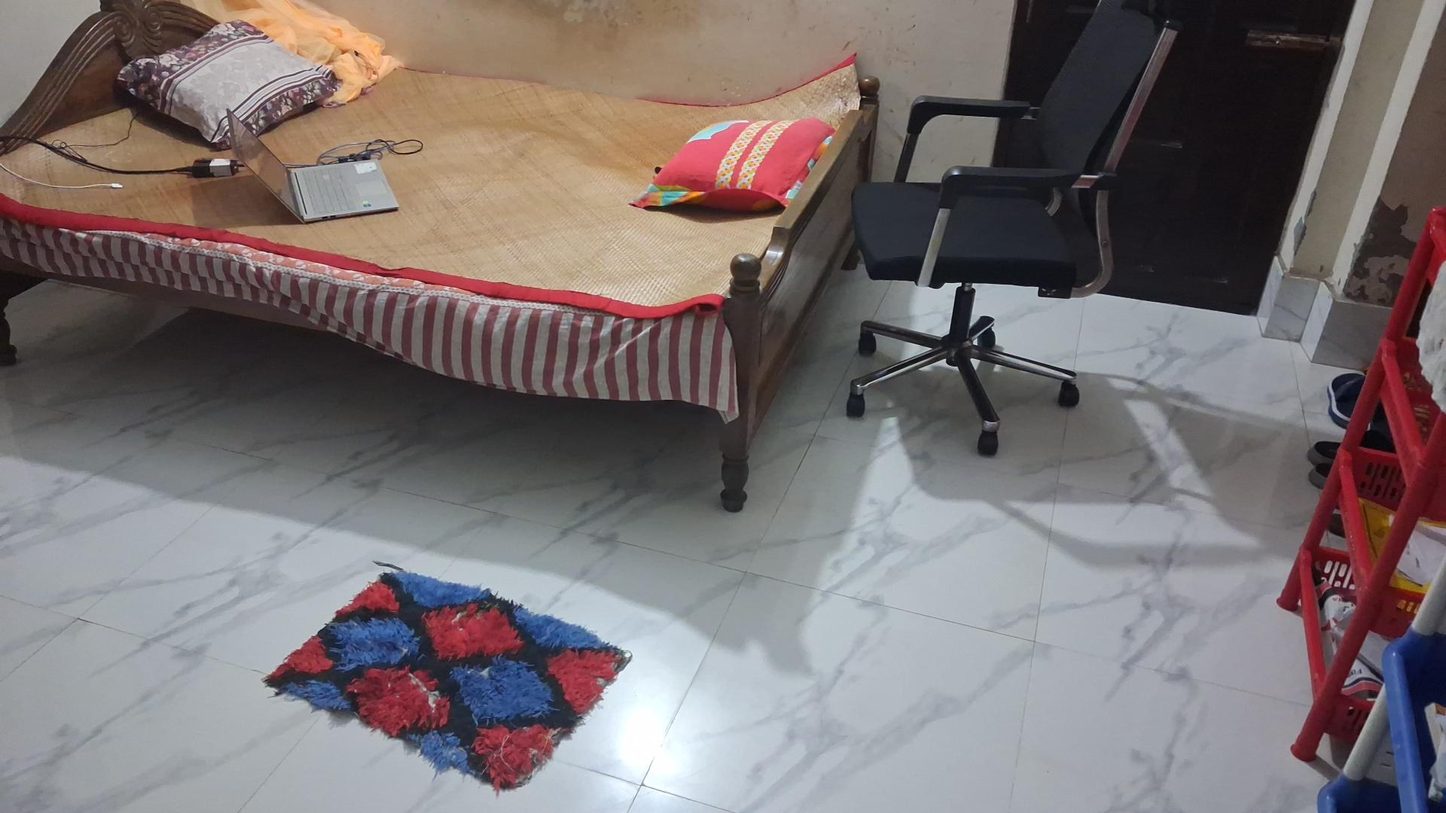Chair: (846, 3, 1181, 457), (1278, 205, 1445, 774)
Floor Mat: (254, 564, 643, 792)
Laptop: (220, 107, 421, 231)
Pillow: (103, 20, 351, 148), (626, 118, 838, 221)
